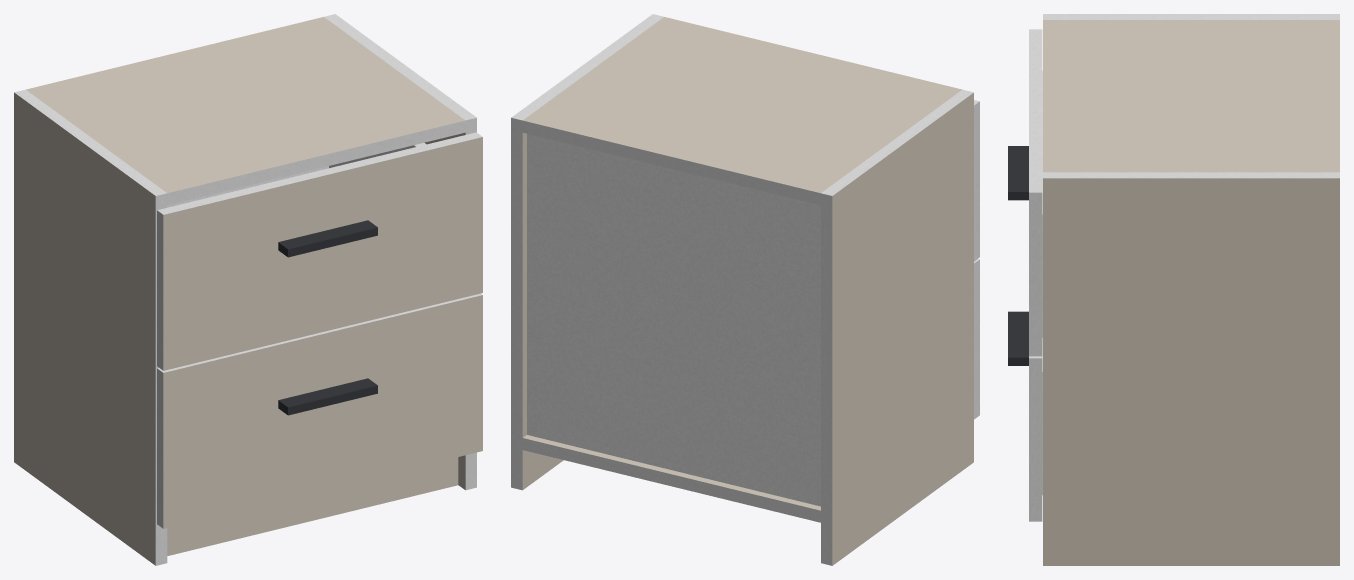
Rendered from CAL-NST-std.glb.
The picture shows the model from 3 angles, left to right: view 1: azimuth 30°, elevation 25°; view 2: azimuth 150°, elevation 25°; view 3: azimuth 270°, elevation 25°; orthographic projection. The views are drawn at different scales.
Parts seen in each view (by area): view 1: side-l:pbr, d1-front:pbr, d2-front:pbr, top:pbr, plinth:pbr, top:sheet:eyJtIjoibWRmIiwic2lkZSI6ImVkZ2UtbG9uZyIsInNlZWQiOj, pull, d2-front:sheet:eyJtIjoibWRmIiwic2lkZSI6ImVkZ2UtbG9uZyIsInNlZ, side-r:sheet:eyJtIjoibWRmIiwic2lkZSI6ImVkZ2UtZW5kIiwic2VlZCI, side-l:sheet:eyJtIjoibWRmIiwic2lkZSI6ImVkZ2UtZW5kIiwic2VlZCI, side-l:sheet:eyJtIjoibWRmIiwic2lkZSI6ImVkZ2UtbG9uZyIsInNlZWQ, d1-front:sheet:eyJtIjoibWRmIiwic2lkZSI6ImVkZ2UtZW5kIiwic2VlZ (+3 smaller); view 2: back:sheet:eyJtIjoibWRmIiwic2lkZSI6ImZhY2UiLCJzZWVkIjo0LCJ0a, side-l:pbr, top:pbr, side-r:sheet:eyJtIjoibWRmIiwic2lkZSI6ImVkZ2UtbG9uZyIsInNlZWQ, side-l:sheet:eyJtIjoibWRmIiwic2lkZSI6ImVkZ2UtbG9uZyIsInNlZWQ, bottom:sheet:eyJtIjoibWRmIiwic2lkZSI6ImVkZ2UtbG9uZyIsInNlZWQ, top:sheet:eyJtIjoibWRmIiwic2lkZSI6ImVkZ2UtbG9uZyIsInNlZWQiOj, side-r:pbr, side-l:sheet:eyJtIjoibWRmIiwic2lkZSI6ImVkZ2UtZW5kIiwic2VlZCI, side-r:sheet:eyJtIjoibWRmIiwic2lkZSI6ImVkZ2UtZW5kIiwic2VlZCI, bottom:pbr, d1-front:sheet:eyJtIjoibWRmIiwic2lkZSI6ImVkZ2UtZW5kIiwic2VlZ (+1 smaller); view 3: side-r:pbr, top:pbr, pull, d2-front:sheet:eyJtIjoibWRmIiwic2lkZSI6ImVkZ2UtZW5kIiwic2VlZ, d1-front:sheet:eyJtIjoibWRmIiwic2lkZSI6ImVkZ2UtZW5kIiwic2VlZ, d2-front:sheet:eyJtIjoibWRmIiwic2lkZSI6ImVkZ2UtbG9uZyIsInNlZ, side-r:sheet:eyJtIjoibWRmIiwic2lkZSI6ImVkZ2UtZW5kIiwic2VlZCI, side-l:sheet:eyJtIjoibWRmIiwic2lkZSI6ImVkZ2UtZW5kIiwic2VlZCI.
Part boxes in pixels (left/top/right/bottom): side-l:pbr: left=14, top=92, right=155, bottom=565; d1-front:pbr: left=163, top=295, right=482, bottom=528; d2-front:pbr: left=163, top=137, right=482, bottom=370; top:pbr: left=26, top=17, right=465, bottom=193; plinth:pbr: left=167, top=457, right=458, bottom=555; top:sheet:eyJtIjoibWRmIiwic2lkZSI6ImVkZ2UtbG9uZyIsInNlZWQiOj: left=167, top=120, right=465, bottom=205; pull: left=278, top=220, right=377, bottom=415; d2-front:sheet:eyJtIjoibWRmIiwic2lkZSI6ImVkZ2UtbG9uZyIsInNlZ: left=157, top=132, right=482, bottom=214; side-r:sheet:eyJtIjoibWRmIiwic2lkZSI6ImVkZ2UtZW5kIiwic2VlZCI: left=324, top=14, right=476, bottom=120; side-l:sheet:eyJtIjoibWRmIiwic2lkZSI6ImVkZ2UtZW5kIiwic2VlZCI: left=14, top=89, right=166, bottom=195; side-l:sheet:eyJtIjoibWRmIiwic2lkZSI6ImVkZ2UtbG9uZyIsInNlZWQ: left=155, top=193, right=167, bottom=565; d1-front:sheet:eyJtIjoibWRmIiwic2lkZSI6ImVkZ2UtZW5kIiwic2VlZ: left=157, top=368, right=163, bottom=528; back:sheet:eyJtIjoibWRmIiwic2lkZSI6ImZhY2UiLCJzZWVkIjo0LCJ0a: left=527, top=133, right=820, bottom=506; side-l:pbr: left=832, top=93, right=973, bottom=565; top:pbr: left=523, top=17, right=962, bottom=193; side-r:sheet:eyJtIjoibWRmIiwic2lkZSI6ImVkZ2UtbG9uZyIsInNlZWQ: left=511, top=117, right=522, bottom=490; side-l:sheet:eyJtIjoibWRmIiwic2lkZSI6ImVkZ2UtbG9uZyIsInNlZWQ: left=821, top=193, right=832, bottom=565; bottom:sheet:eyJtIjoibWRmIiwic2lkZSI6ImVkZ2UtbG9uZyIsInNlZWQ: left=522, top=438, right=820, bottom=522; top:sheet:eyJtIjoibWRmIiwic2lkZSI6ImVkZ2UtbG9uZyIsInNlZWQiOj: left=522, top=120, right=820, bottom=205; side-r:pbr: left=522, top=133, right=563, bottom=489; side-l:sheet:eyJtIjoibWRmIiwic2lkZSI6ImVkZ2UtZW5kIiwic2VlZCI: left=821, top=89, right=973, bottom=195; side-r:sheet:eyJtIjoibWRmIiwic2lkZSI6ImVkZ2UtZW5kIiwic2VlZCI: left=511, top=14, right=663, bottom=120; bottom:pbr: left=523, top=435, right=820, bottom=510; d1-front:sheet:eyJtIjoibWRmIiwic2lkZSI6ImVkZ2UtZW5kIiwic2VlZ: left=974, top=259, right=979, bottom=419; side-r:pbr: left=1043, top=178, right=1339, bottom=565; top:pbr: left=1043, top=20, right=1339, bottom=172; pull: left=1008, top=146, right=1028, bottom=365; d2-front:sheet:eyJtIjoibWRmIiwic2lkZSI6ImVkZ2UtZW5kIiwic2VlZ: left=1029, top=192, right=1042, bottom=356; d1-front:sheet:eyJtIjoibWRmIiwic2lkZSI6ImVkZ2UtZW5kIiwic2VlZ: left=1029, top=358, right=1042, bottom=521; d2-front:sheet:eyJtIjoibWRmIiwic2lkZSI6ImVkZ2UtbG9uZyIsInNlZ: left=1029, top=29, right=1042, bottom=192; side-r:sheet:eyJtIjoibWRmIiwic2lkZSI6ImVkZ2UtZW5kIiwic2VlZCI: left=1043, top=172, right=1339, bottom=178; side-l:sheet:eyJtIjoibWRmIiwic2lkZSI6ImVkZ2UtZW5kIiwic2VlZCI: left=1043, top=14, right=1339, bottom=19.
Bounding box in the file's own units: 0.5 × 0.55 × 0.4267.
55 materials, 47 textured.
